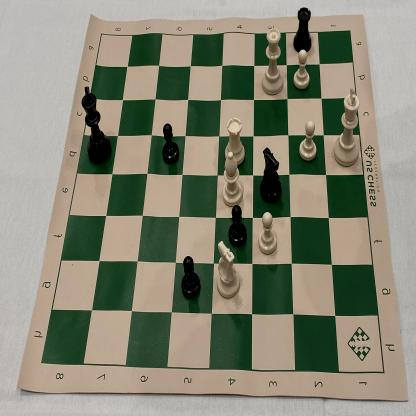black-king: (77, 82, 113, 166)
black-knight: (258, 143, 284, 207)
black-pawn: (178, 251, 203, 301), (226, 202, 249, 247), (160, 119, 182, 166)
black-rook: (292, 2, 312, 56)
white-bishop: (217, 150, 247, 210)
white-king: (330, 83, 364, 171)
white-knight: (213, 237, 243, 303)
white-pawn: (296, 119, 320, 164), (290, 46, 313, 92), (257, 210, 278, 260)
white-queen: (258, 24, 287, 97)
white-rook: (223, 115, 247, 169)
